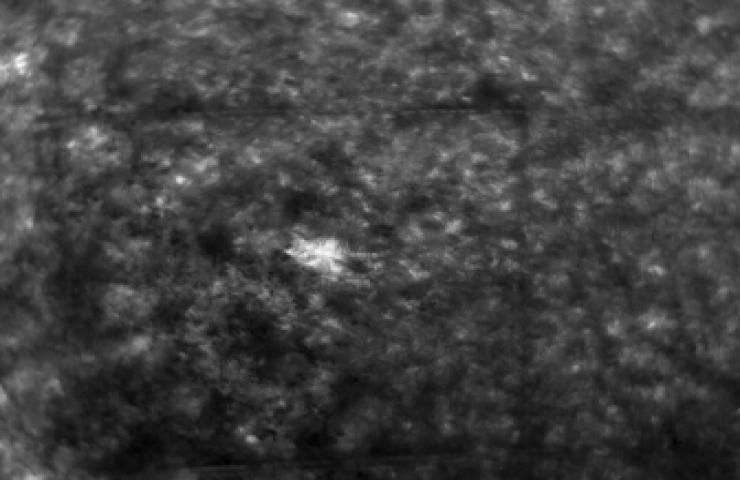landmines: (283, 228, 352, 278)
